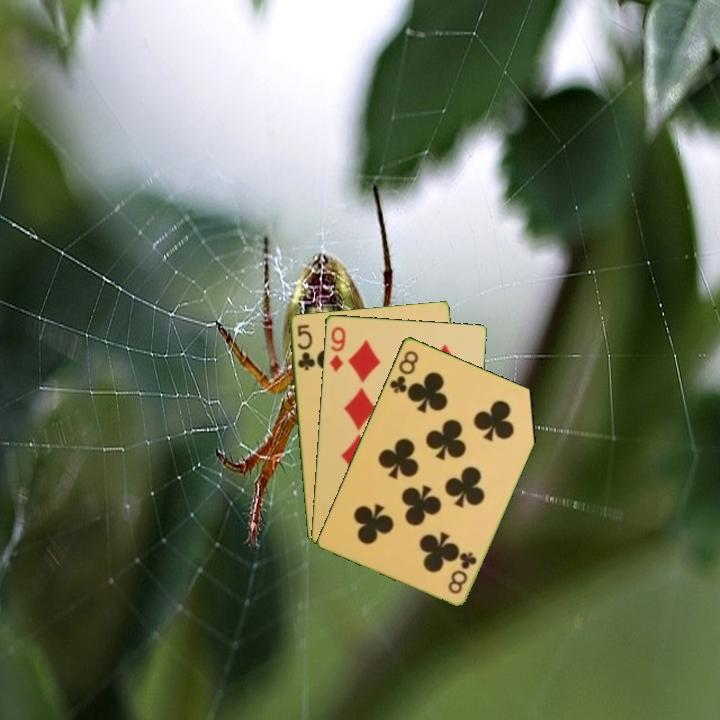5c: (293, 321, 318, 373)
8c: (444, 548, 480, 597), (386, 346, 421, 396)
9d: (326, 323, 348, 375)
